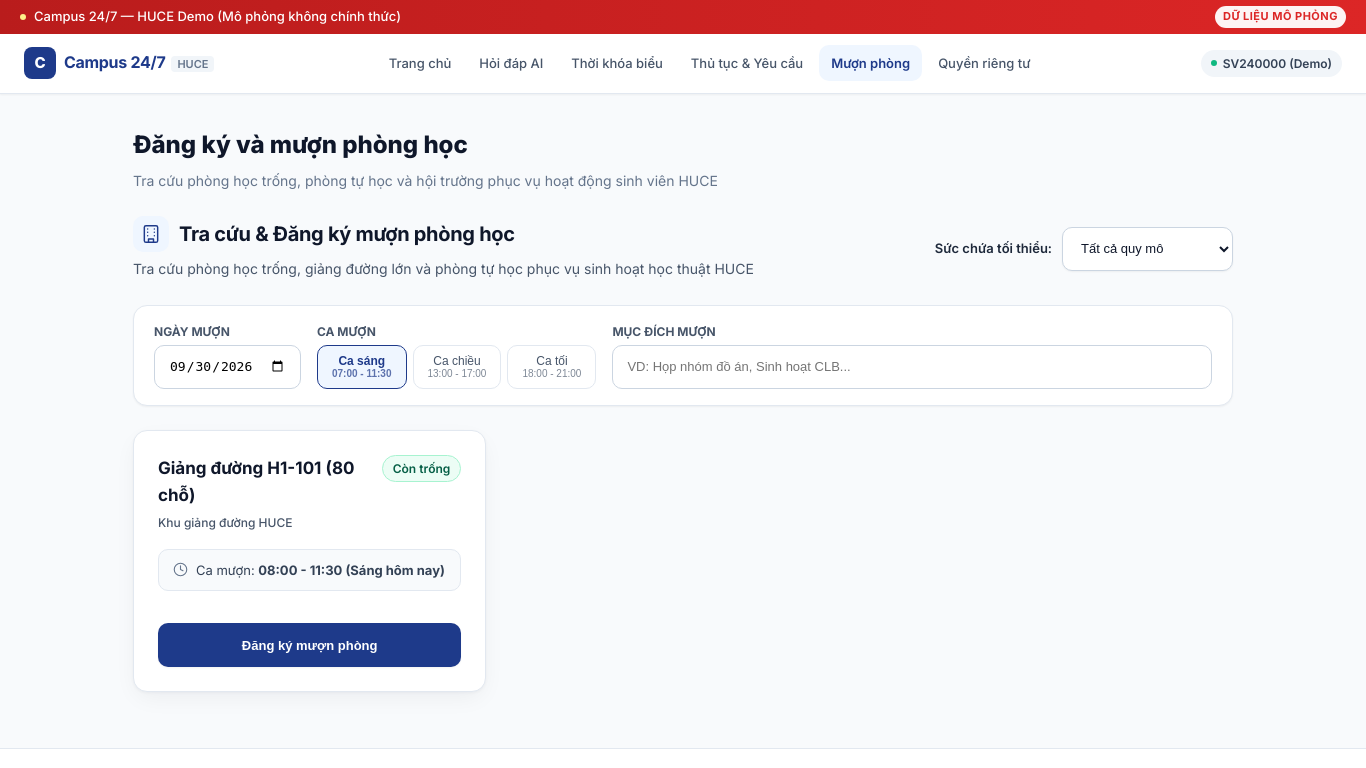
Test: RoomsPage Component - Fail Honestly (TASK-WEB-ROOM-003) › booking failure never renders fabricated receipt or success notice
# Wait for rooms to load
Click the button "Đăng ký mượn phòng": (310, 645) 158,623 -> 461,667
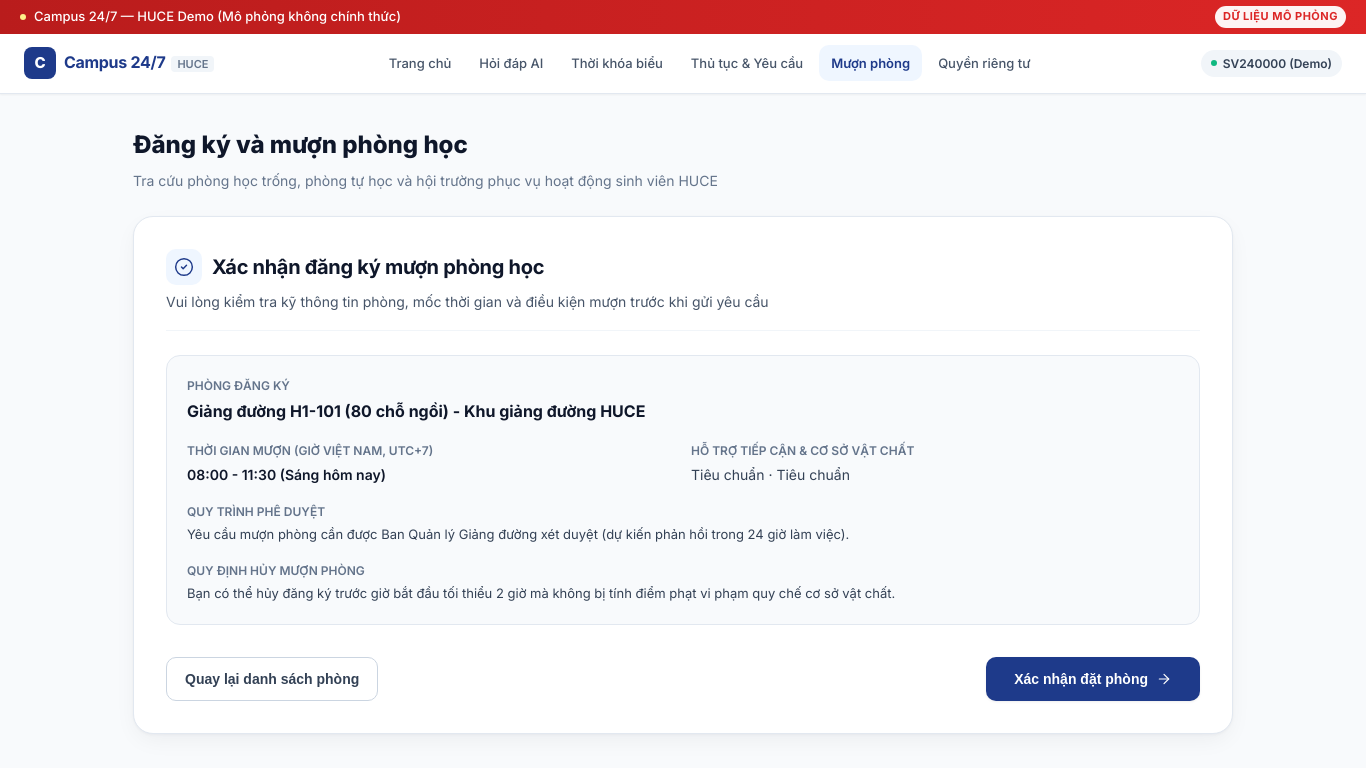
# Confirm booking in preview
Click the button "Xác nhận đặt phòng": (1093, 678) 986,656 -> 1200,700
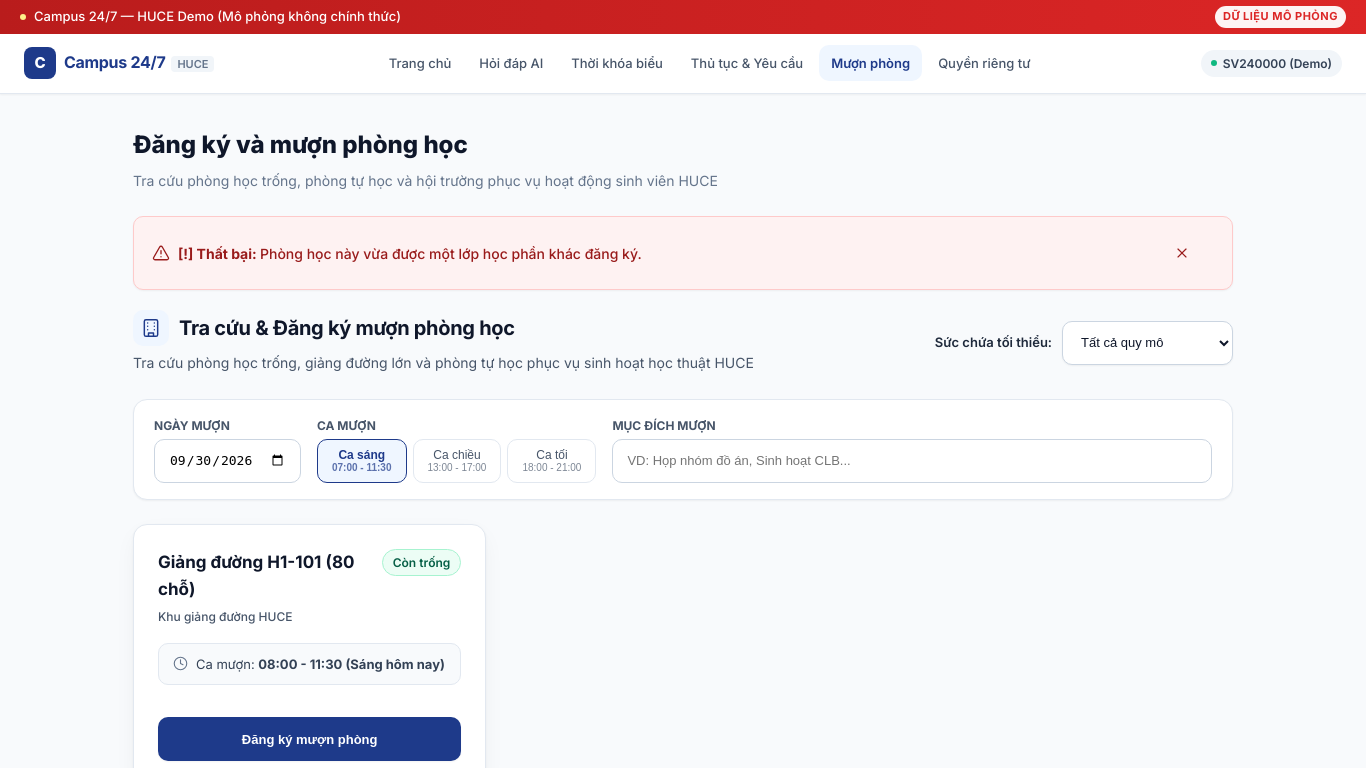
Result: the text "Phòng học này vừa được một lớp học phần khác đăng ký" is shown at 260,245 -> 642,262
